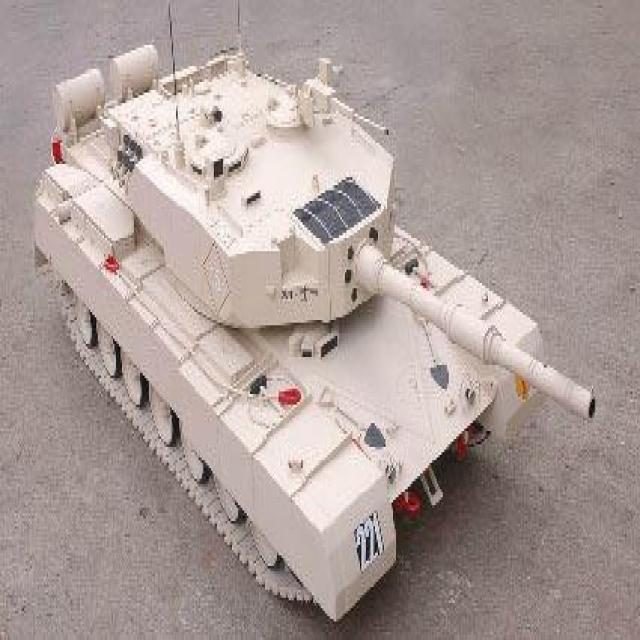Tanks: (29, 47, 604, 618)
